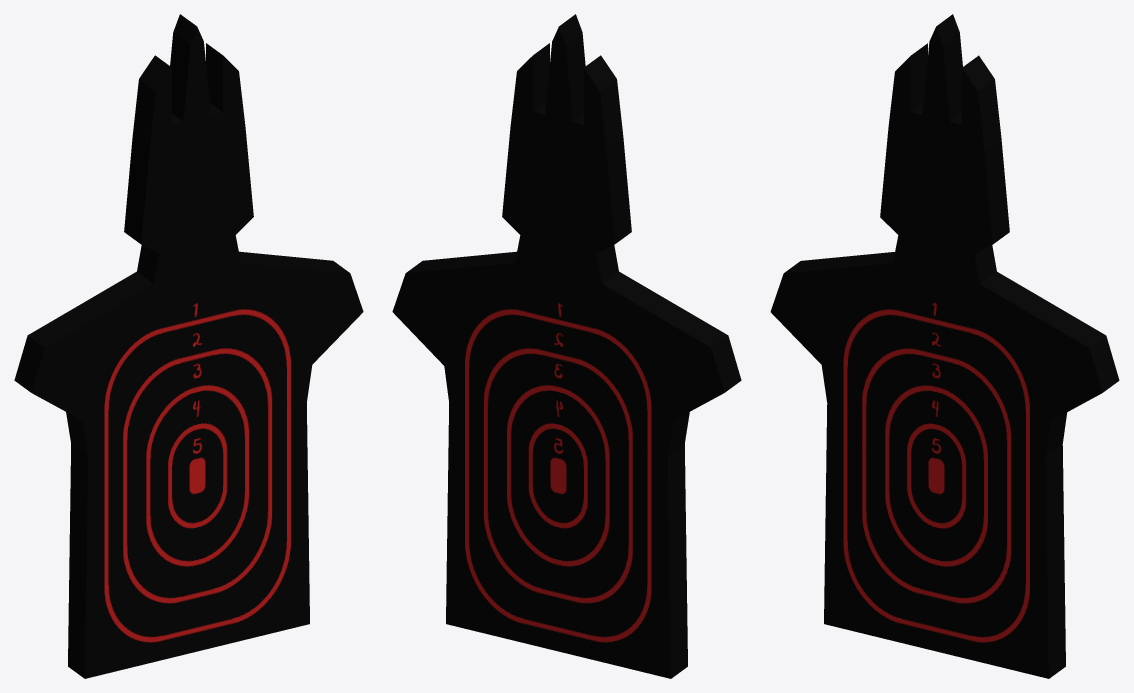
File: Alvo_forte.glb
3 views of the same model, side by side, from view 1: azimuth 30°, elevation 25°; view 2: azimuth 150°, elevation 25°; view 3: azimuth 330°, elevation 25° (orthographic).
Parts seen in each view (by area): view 1: Alvo Forte; view 2: Alvo Forte; view 3: Alvo Forte.
Boxes of the visible parts, <box> form: Alvo Forte: <box>14,14,363,678</box>; Alvo Forte: <box>392,14,741,678</box>; Alvo Forte: <box>770,14,1119,678</box>.
Size of the model in its own units: 1.96 by 3.52 by 0.1736.
Materials: 1 (1 with a texture image).
